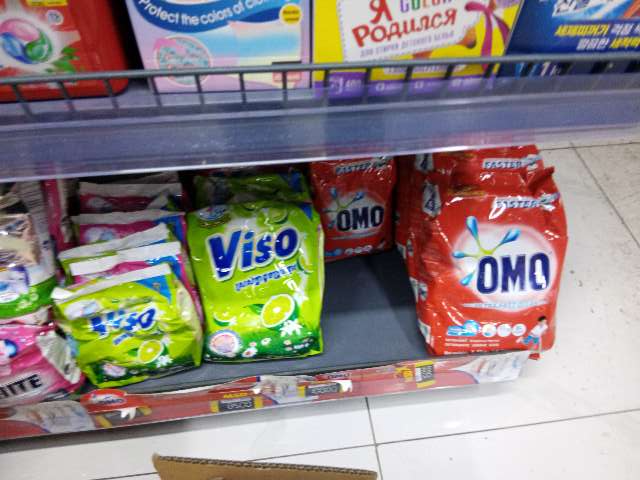omo: (427, 175, 561, 348), (313, 162, 389, 249)
viso: (186, 208, 317, 353), (49, 289, 187, 376)
